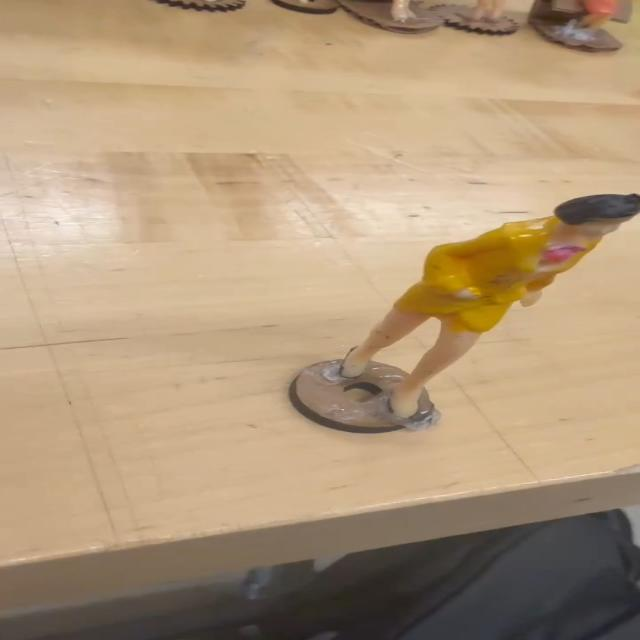Authorized: (329, 179, 640, 425)
